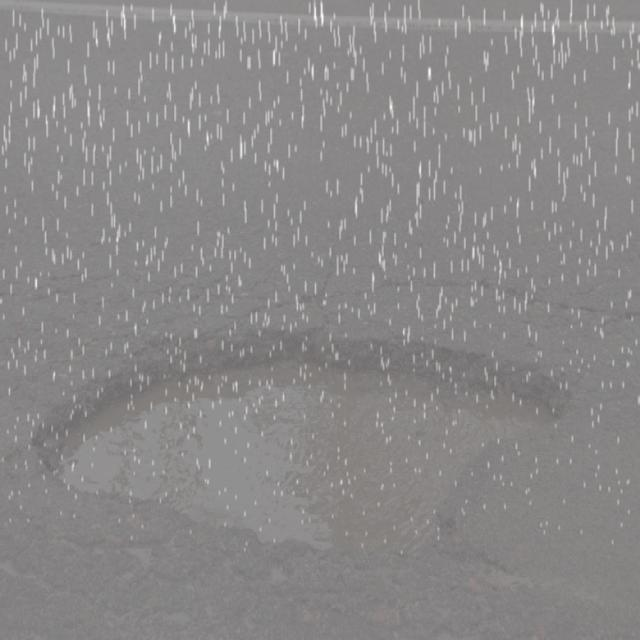Pothole: (26, 322, 571, 575)
